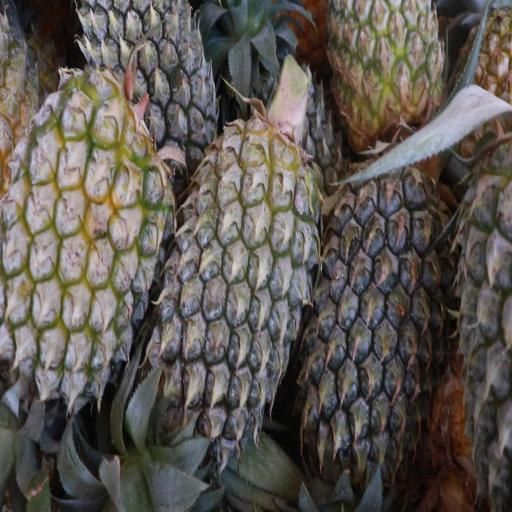------------------------------: (2, 74, 160, 393), (331, 0, 449, 148)
